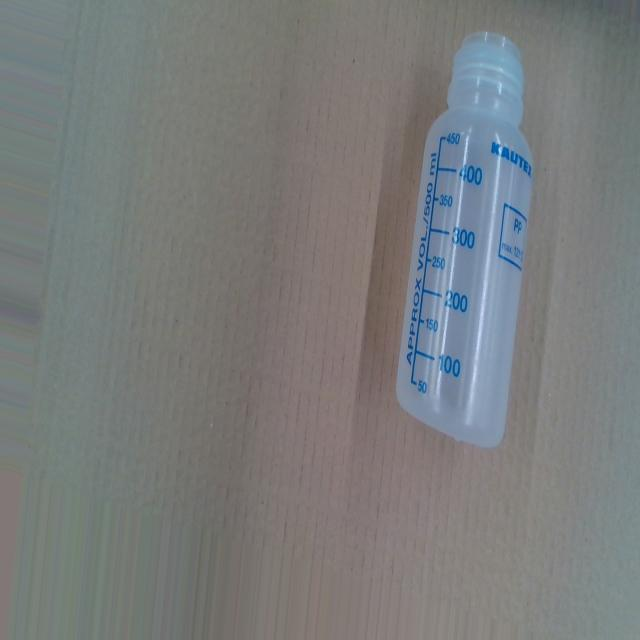bottle: (392, 26, 540, 450)
